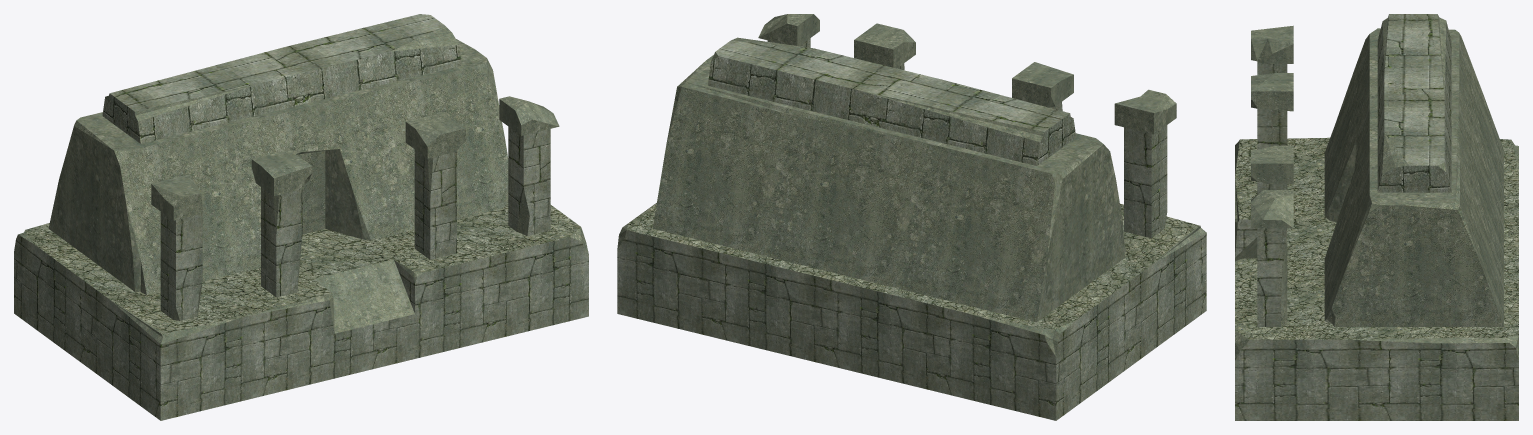
Rendered from thm_nboo_gungan_imprv_building_s02_l1.fbx.
3 renders of one model, left to right at view 1: azimuth 30°, elevation 25°; view 2: azimuth 150°, elevation 25°; view 3: azimuth 270°, elevation 25°, orthographic. The views are drawn at different scales.
Parts seen in each view (by area): view 1: mesh_node; view 2: mesh_node; view 3: mesh_node.
Part boxes in pixels (x1,y1,x2,y2): mesh_node: [14, 14, 588, 420]; mesh_node: [617, 14, 1206, 420]; mesh_node: [1235, 14, 1518, 420].
Bounding box in the file's own units: 32 × 17 × 19.
